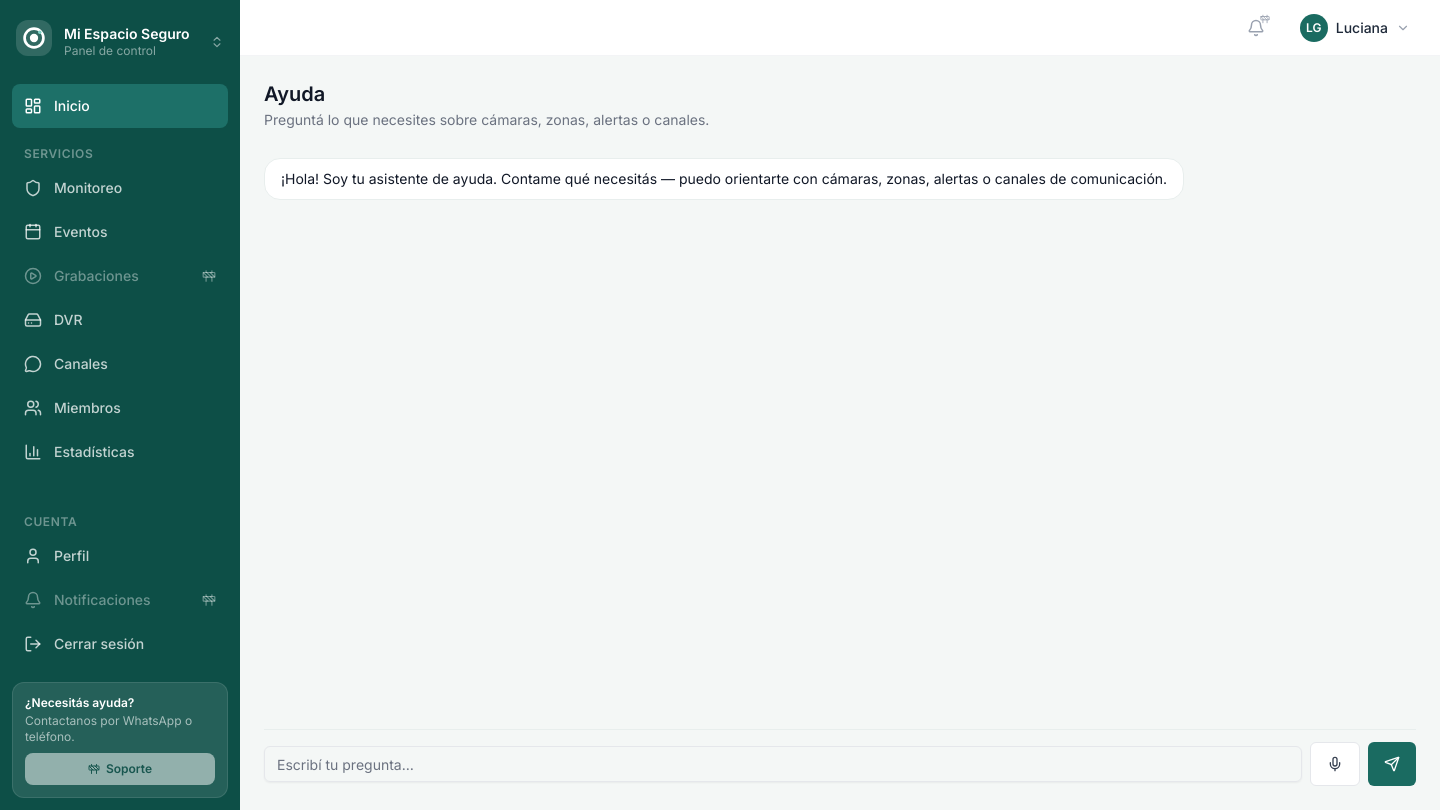
Test: HelpChatPage › shows a sent message and the real assistant reply that follows
The width and height of the screenshot is (1440, 810).
In the field named "Mensaje": (783, 764) [264,746,1302,782], type "¿Cómo configuro una zona?"
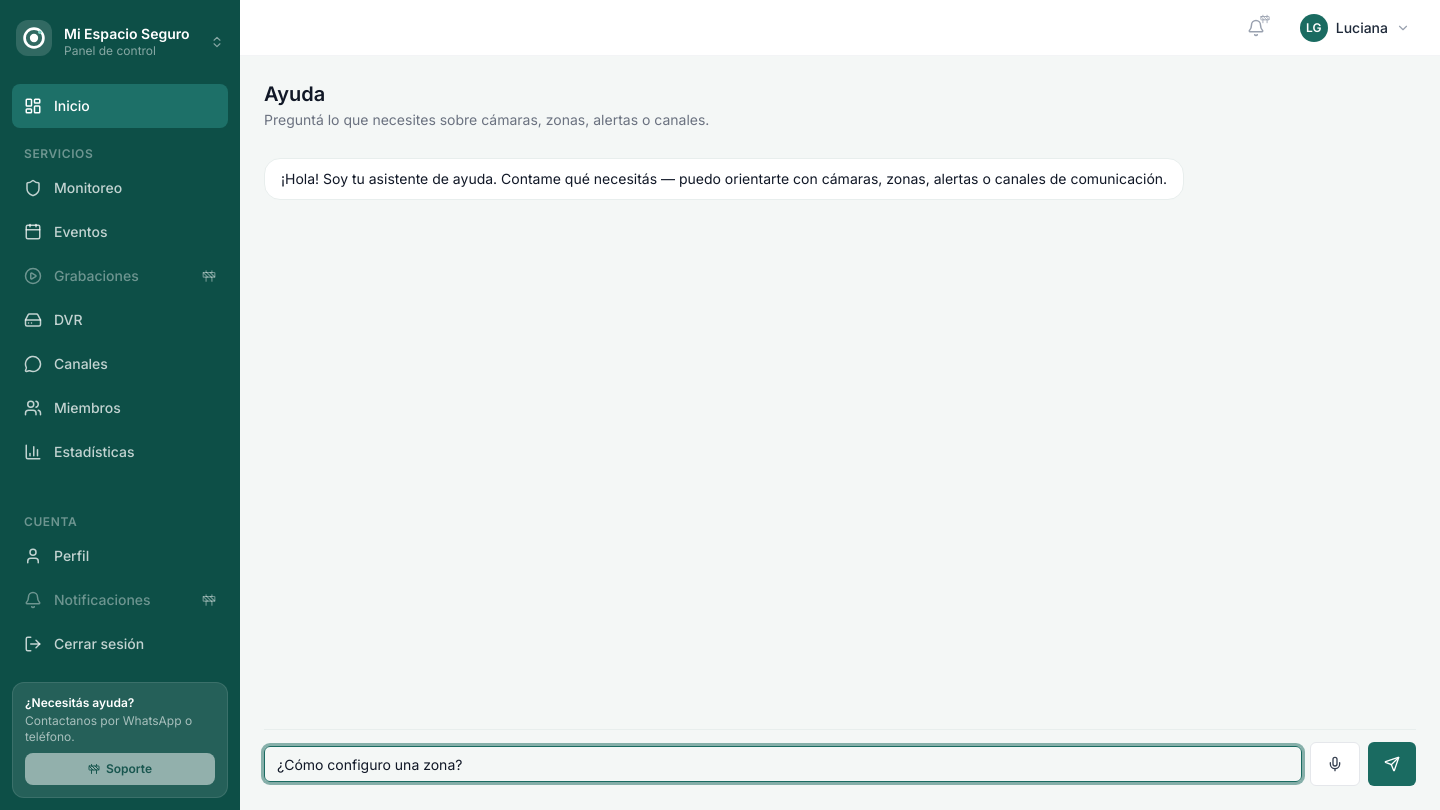
Click the 2nd button named "Enviar": (1392, 764) [1368,742,1416,786]
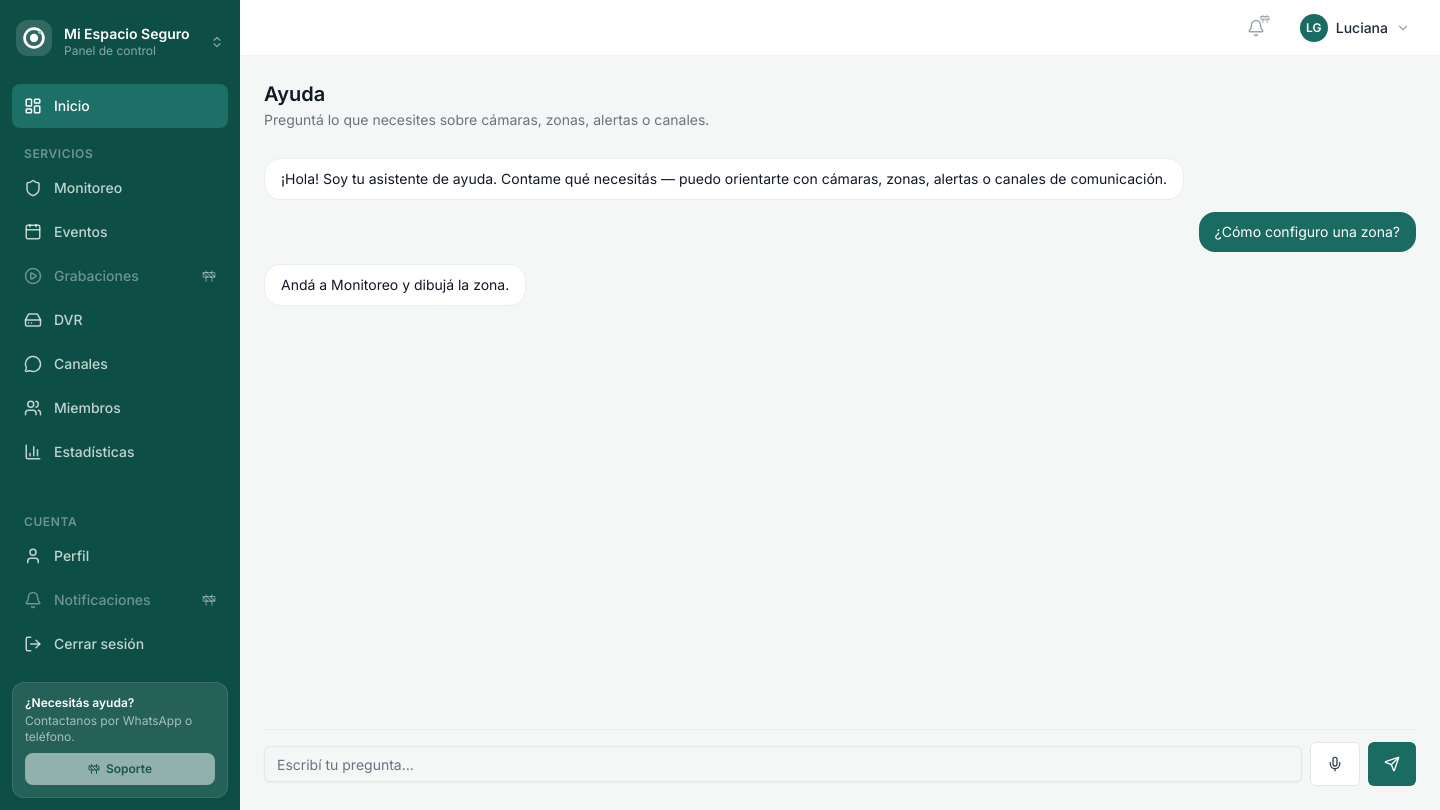
Result: the text "¿Cómo configuro una zona?" is shown at [1199,212,1416,252]
Result: the text "Andá a Monitoreo y dibujá la zona." is shown at [264,264,526,306]
